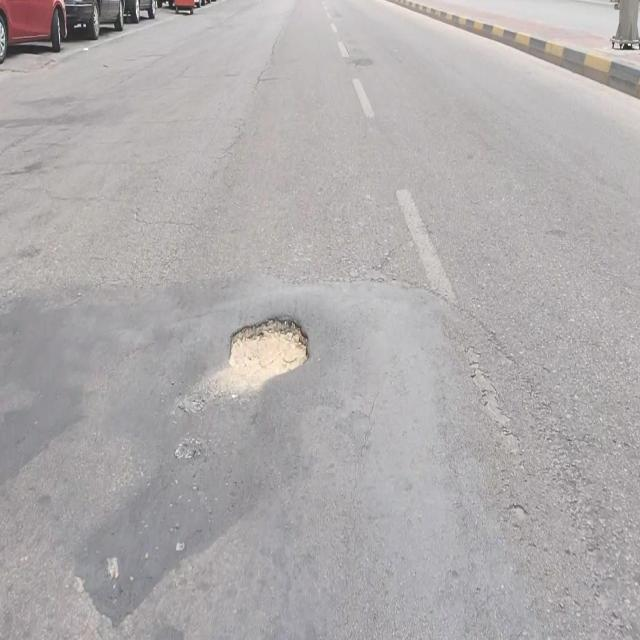Potholes: (227, 311, 311, 393)
